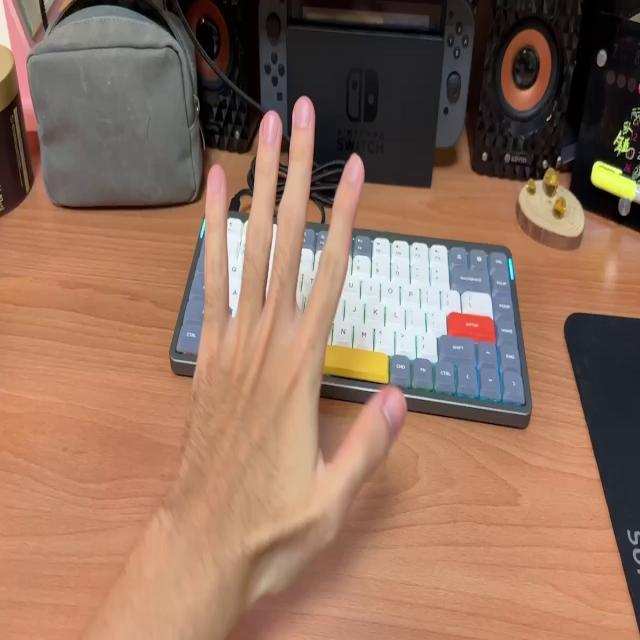keyboard-with-hands: (172, 210, 530, 408)
